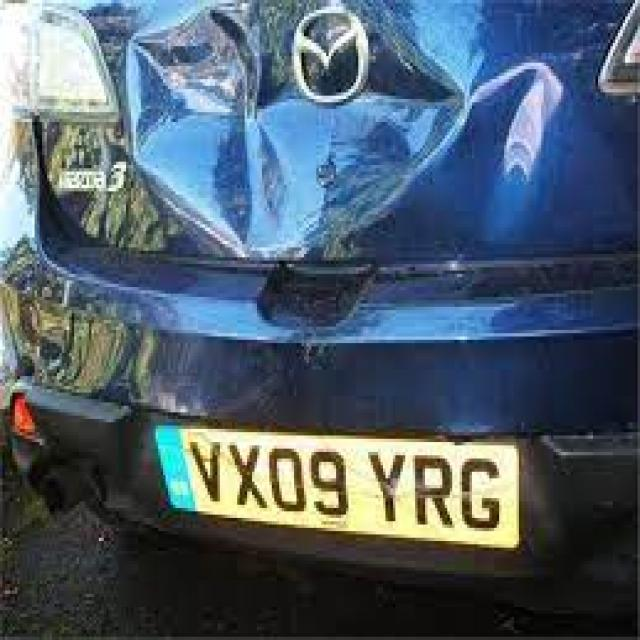minor: (78, 13, 446, 304)
